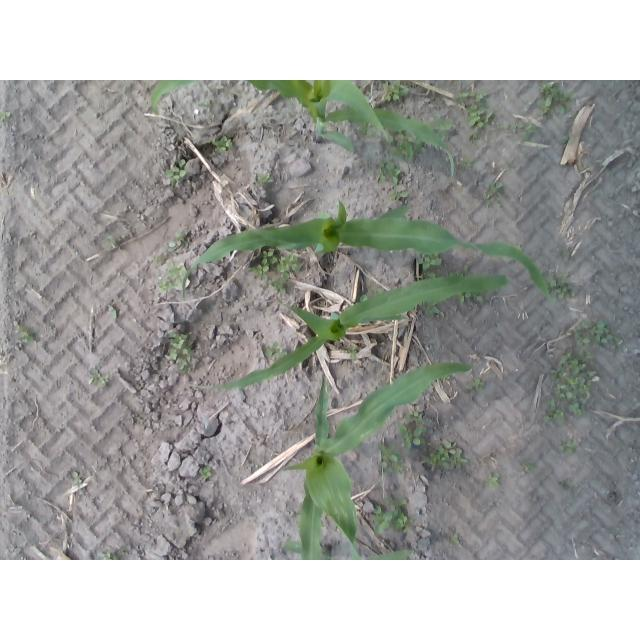Maize: (182, 201, 554, 303), (281, 362, 471, 560), (190, 274, 509, 389), (150, 81, 454, 176), (280, 542, 413, 560)
Weeds: (552, 351, 600, 401), (429, 441, 470, 471), (583, 320, 624, 345), (167, 332, 192, 369), (376, 159, 401, 186), (374, 507, 398, 533), (540, 82, 572, 101), (278, 255, 302, 278), (468, 105, 492, 128), (383, 82, 409, 103), (549, 276, 572, 299), (402, 424, 423, 448), (393, 138, 414, 162), (165, 160, 187, 181), (429, 111, 452, 130), (379, 446, 397, 469), (265, 342, 287, 360), (557, 92, 576, 112), (90, 369, 111, 387), (16, 325, 34, 344), (418, 257, 442, 271), (156, 277, 174, 295), (250, 265, 271, 280), (167, 231, 185, 247), (165, 264, 183, 279), (519, 122, 534, 140), (539, 98, 554, 115), (212, 135, 230, 149), (260, 250, 276, 265), (272, 278, 289, 292), (470, 90, 488, 103), (404, 412, 424, 423), (100, 549, 120, 560), (574, 334, 590, 347), (153, 253, 167, 267), (487, 473, 501, 487), (559, 439, 573, 453), (521, 464, 536, 477), (387, 497, 410, 505), (258, 173, 274, 184), (571, 405, 586, 416), (200, 467, 213, 479), (399, 513, 410, 527), (109, 305, 120, 319), (395, 459, 406, 473), (455, 92, 469, 103), (392, 190, 408, 199), (72, 472, 83, 485), (106, 236, 116, 250), (491, 183, 505, 193), (472, 379, 484, 390), (456, 265, 468, 276), (200, 100, 212, 111), (460, 158, 473, 168), (555, 411, 566, 422), (347, 348, 357, 360), (459, 293, 471, 303), (561, 132, 571, 144), (544, 412, 555, 422), (1, 111, 12, 121), (421, 424, 426, 445), (430, 303, 439, 314), (473, 294, 484, 303), (504, 122, 512, 134), (548, 399, 556, 409), (452, 534, 460, 543), (470, 135, 478, 144), (483, 195, 493, 202), (424, 307, 433, 313)
